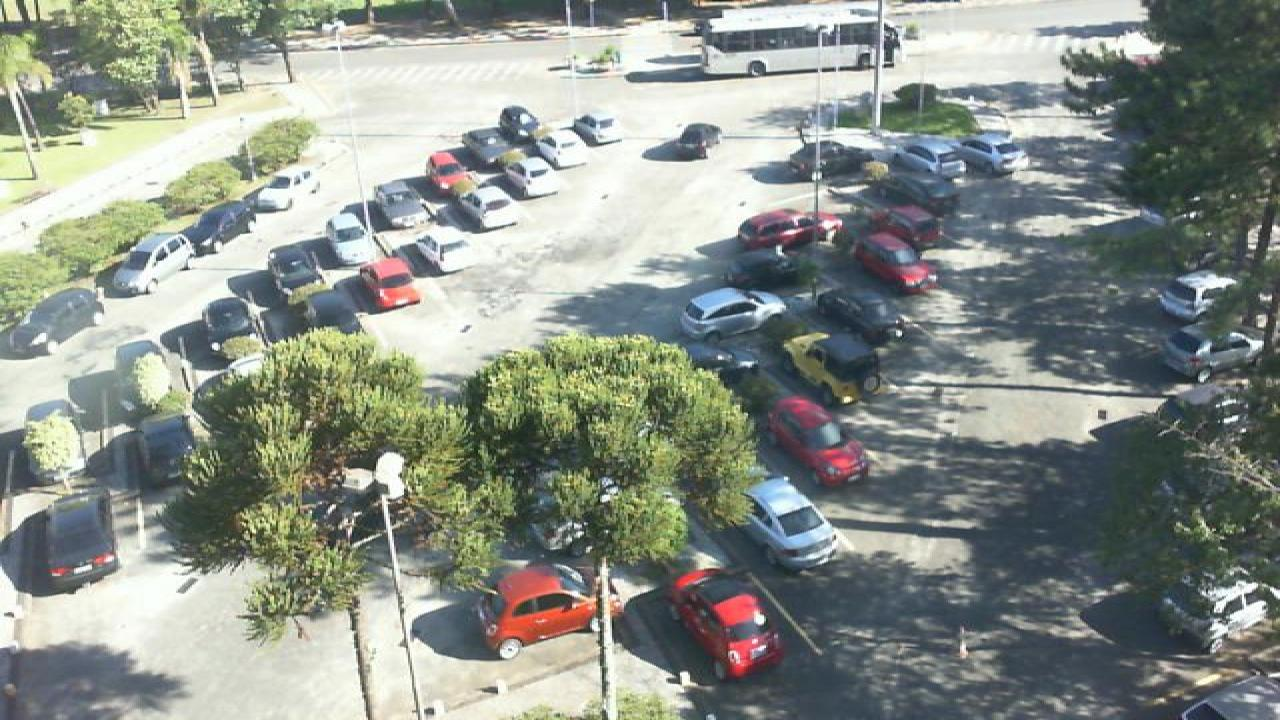Car: (474, 559, 622, 663), (674, 567, 782, 685), (764, 396, 870, 490), (740, 476, 844, 570), (1158, 574, 1280, 654), (32, 495, 120, 585), (780, 331, 886, 404), (6, 286, 106, 354), (676, 286, 788, 343), (1160, 324, 1266, 382), (854, 230, 940, 294), (110, 230, 196, 294), (814, 287, 908, 344), (734, 208, 848, 250), (720, 246, 820, 292), (1156, 271, 1242, 322), (140, 413, 198, 484), (358, 256, 424, 310), (192, 200, 258, 253), (200, 297, 260, 355), (268, 242, 328, 299), (304, 277, 364, 334), (370, 176, 434, 229), (874, 173, 954, 215), (326, 214, 386, 270), (454, 183, 522, 232), (250, 166, 322, 212), (870, 204, 948, 246), (896, 144, 972, 183), (958, 134, 1028, 176), (498, 154, 558, 199), (412, 230, 472, 274), (426, 151, 476, 201), (464, 127, 520, 169), (530, 128, 584, 168), (676, 120, 724, 162), (570, 109, 620, 147), (500, 105, 544, 142)
